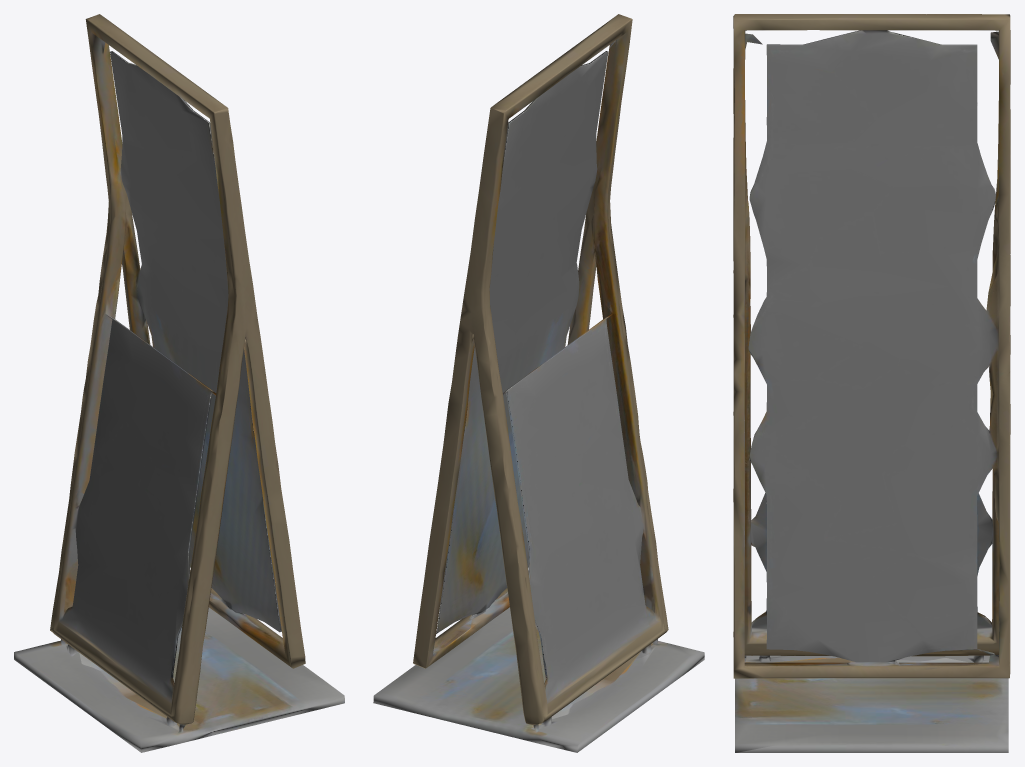
Rendered from espejo grande.fbx.
The picture shows the model from 3 angles, left to right: view 1: azimuth 30°, elevation 25°; view 2: azimuth 150°, elevation 25°; view 3: azimuth 270°, elevation 25°; orthographic projection. The views are drawn at different scales.
Visible parts, largest first — view 1: tripo_node_ac8766d0; view 2: tripo_node_ac8766d0; view 3: tripo_node_ac8766d0.
Part boxes in pixels (<box>): tripo_node_ac8766d0: <box>14,14,344,752</box>; tripo_node_ac8766d0: <box>373,14,704,752</box>; tripo_node_ac8766d0: <box>733,14,1010,752</box>.
Bounding box in the file's own units: 0.3417 × 0.9999 × 0.3745.
1 material, 1 textured.
